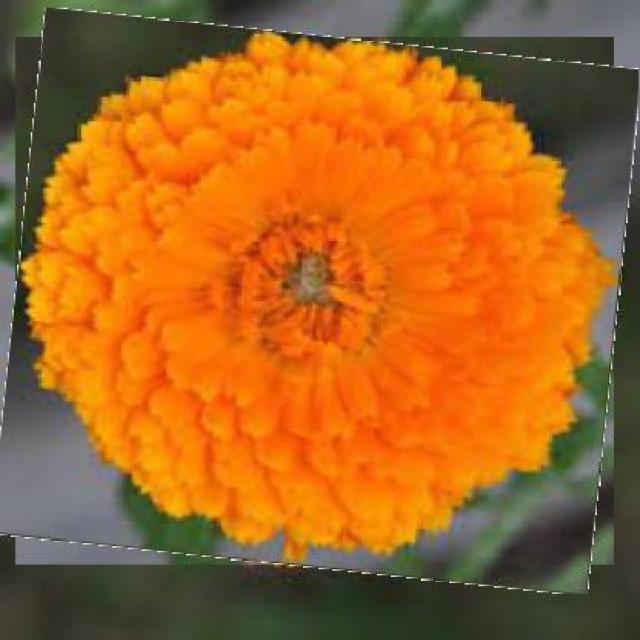Flower: (3, 23, 629, 582)
